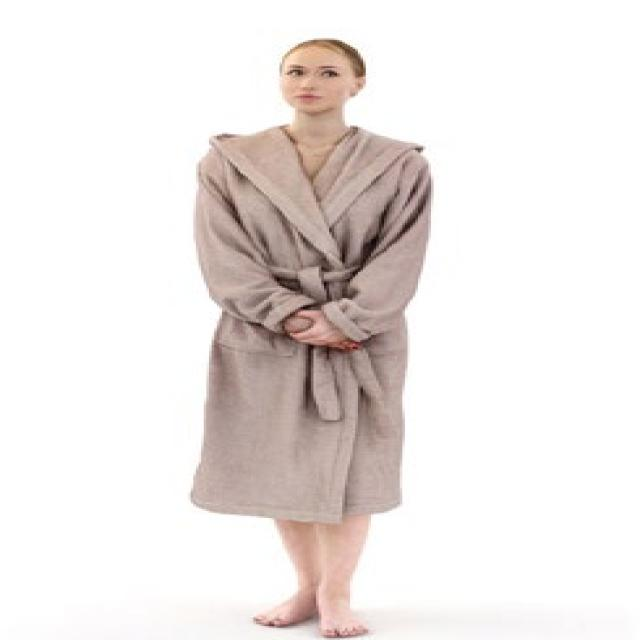standing: (185, 37, 447, 640)
